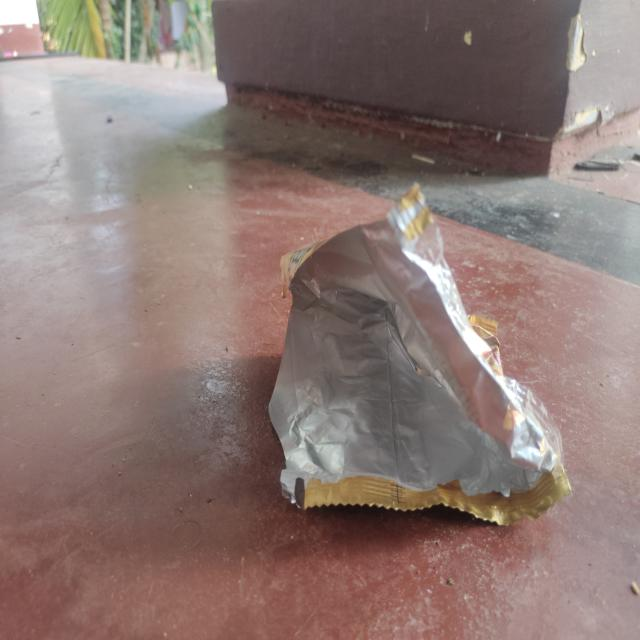plastic: (268, 185, 572, 527)
